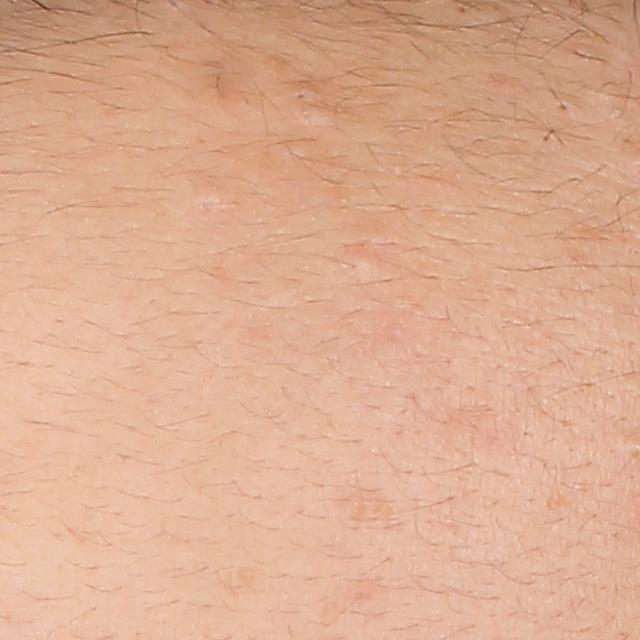comedo: (343, 249, 381, 284), (287, 85, 319, 105), (551, 94, 575, 118)
